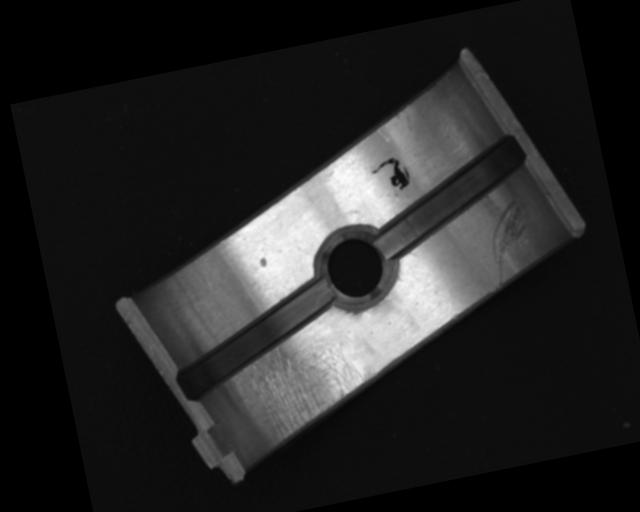blot: (367, 153, 412, 196)
bruise: (257, 255, 268, 269)
gap: (360, 131, 542, 260), (162, 276, 346, 403)
hole: (311, 222, 398, 309)
nick: (480, 195, 541, 288)
scratch: (225, 330, 379, 449)
